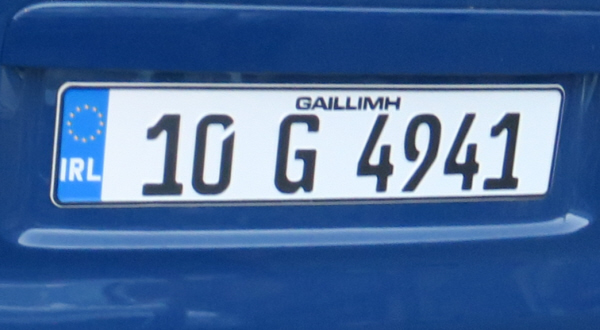license_plate: (51, 81, 564, 207)
